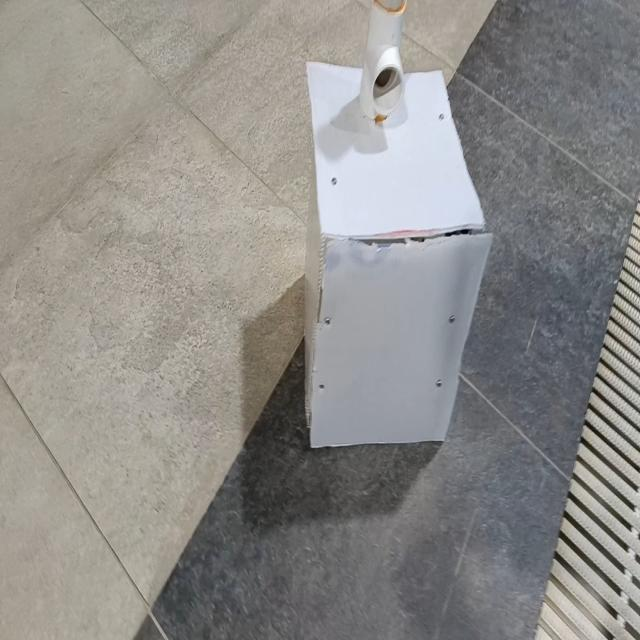Cube: (302, 63, 493, 453)
